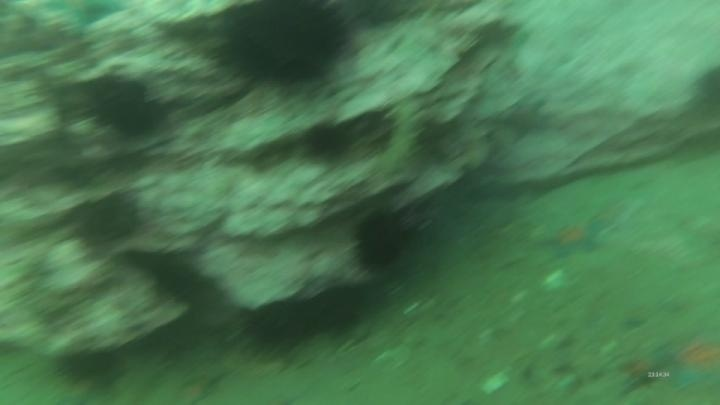echinus: (209, 2, 353, 95), (79, 71, 171, 147), (346, 203, 420, 279), (239, 294, 322, 360), (70, 191, 145, 256), (53, 342, 131, 392), (301, 118, 357, 164), (691, 61, 720, 119)
holothurian: (375, 97, 427, 186)
starfish: (657, 328, 719, 400), (612, 340, 676, 398), (536, 212, 610, 262), (41, 1, 129, 37), (497, 93, 554, 145)
